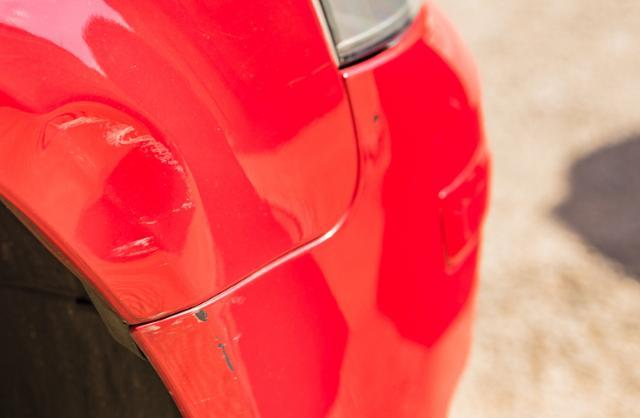Bumper: (134, 284, 441, 418)
Fender: (0, 59, 245, 307)
